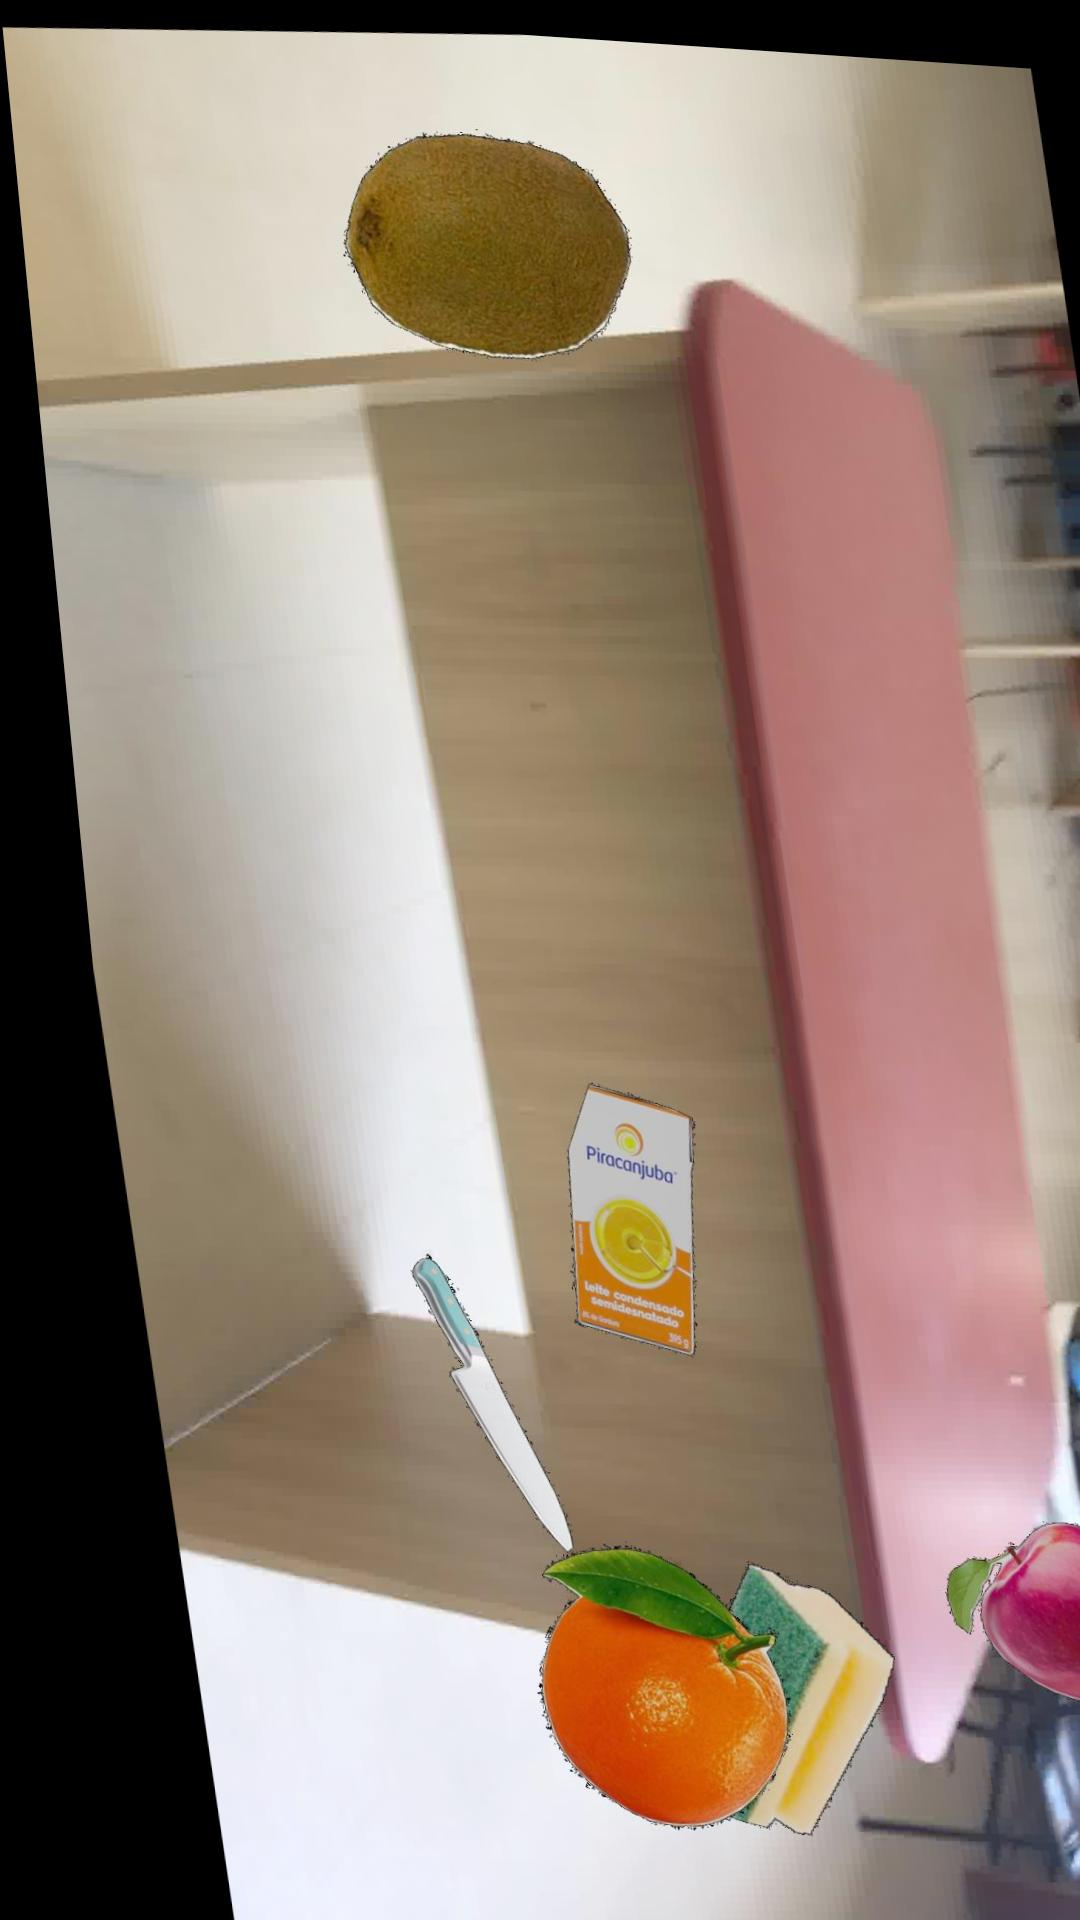apple: (914, 1510, 1080, 1693)
kiwi: (338, 128, 625, 353)
knife: (385, 1250, 541, 1548)
orange: (502, 1539, 754, 1824)
sponge: (692, 1556, 860, 1826)
